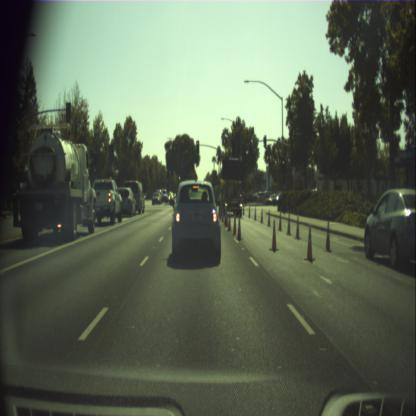Red: (282, 157, 285, 172), (196, 140, 199, 152)
RedLeft: (108, 172, 113, 188)
